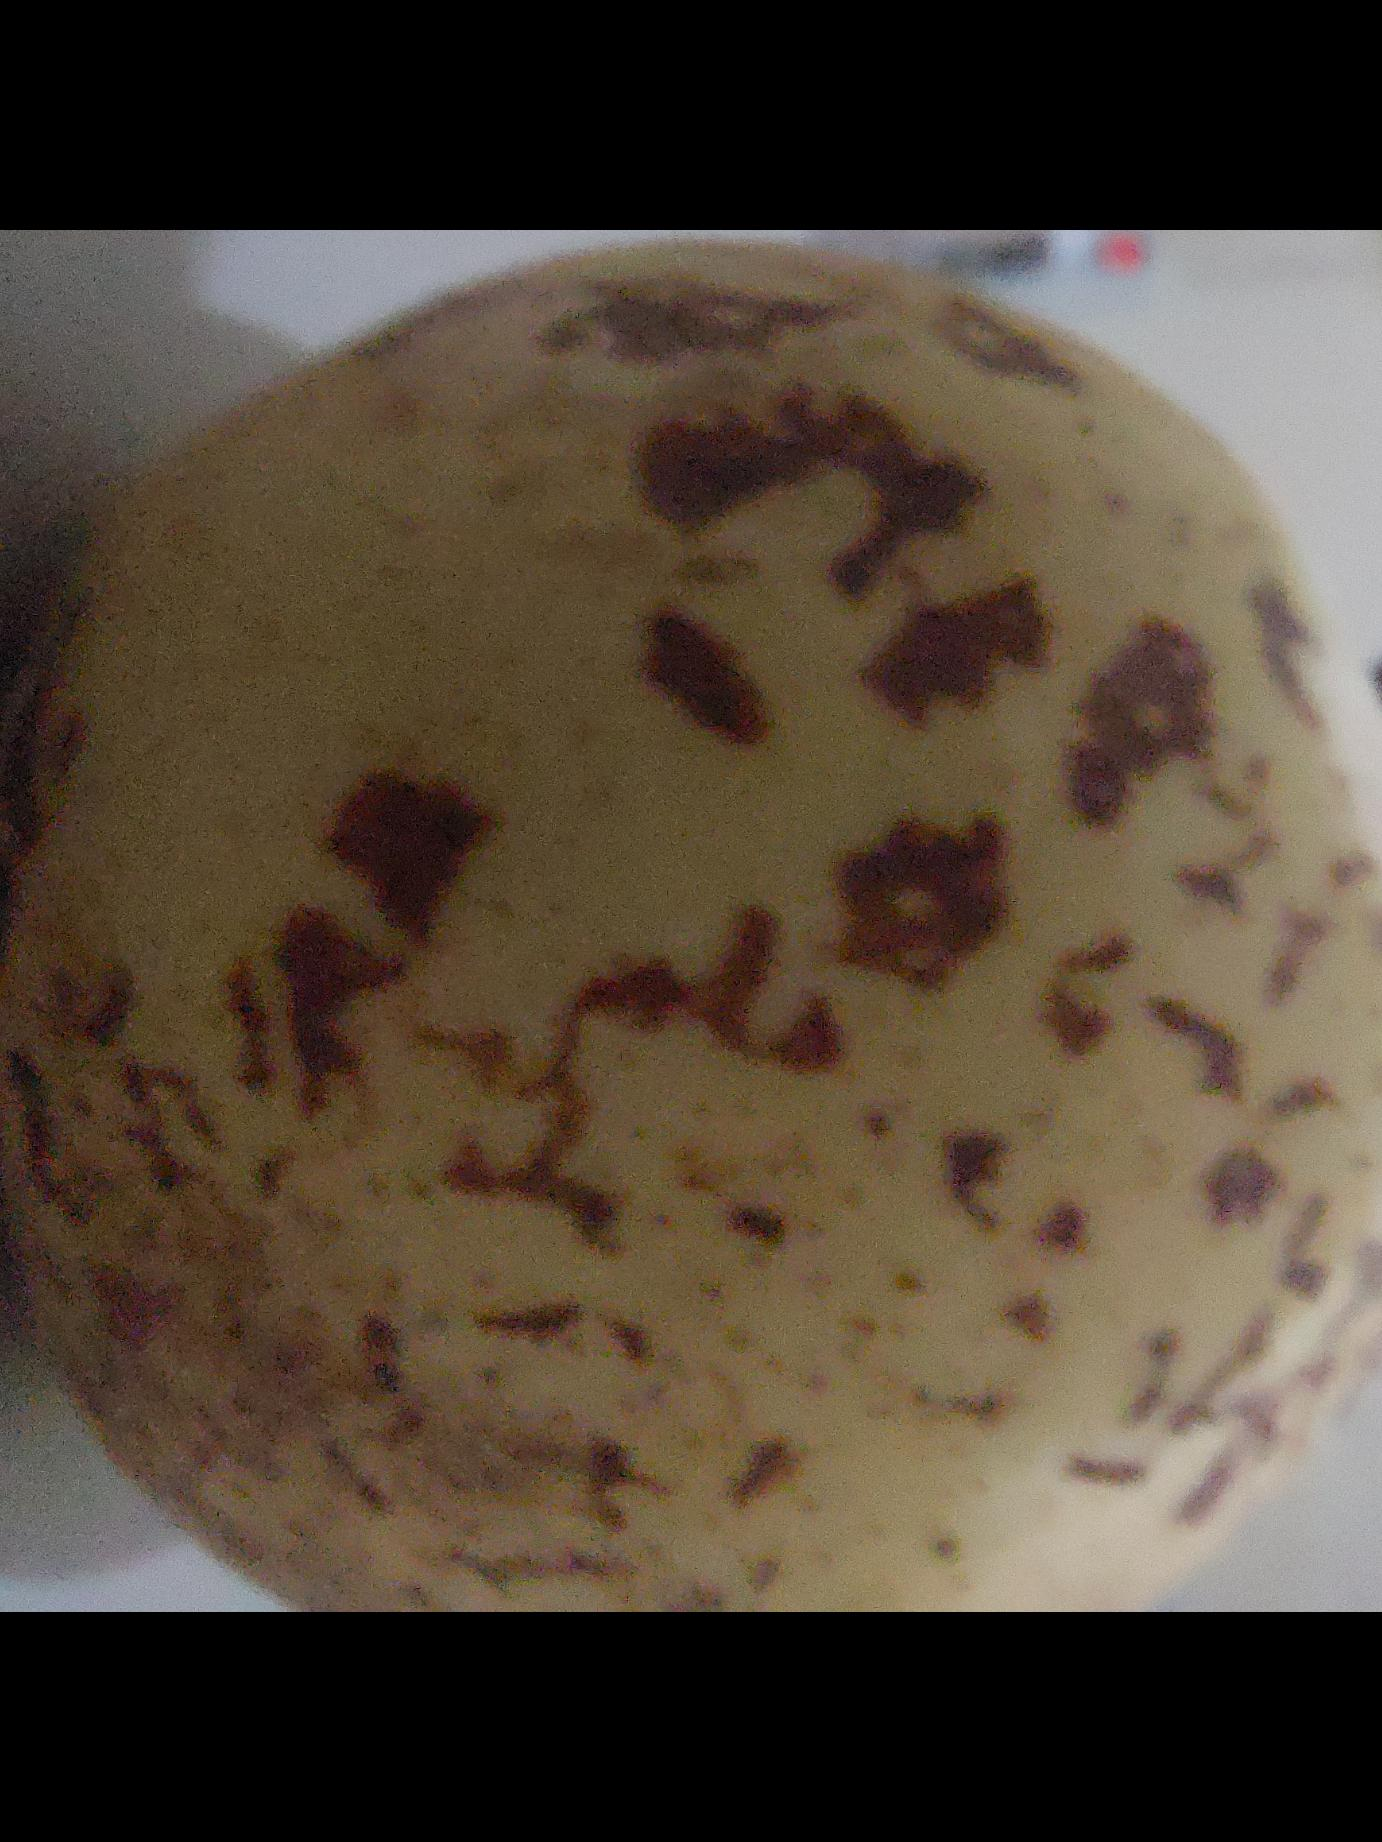Bad Pear: (0, 229, 1382, 1595)
